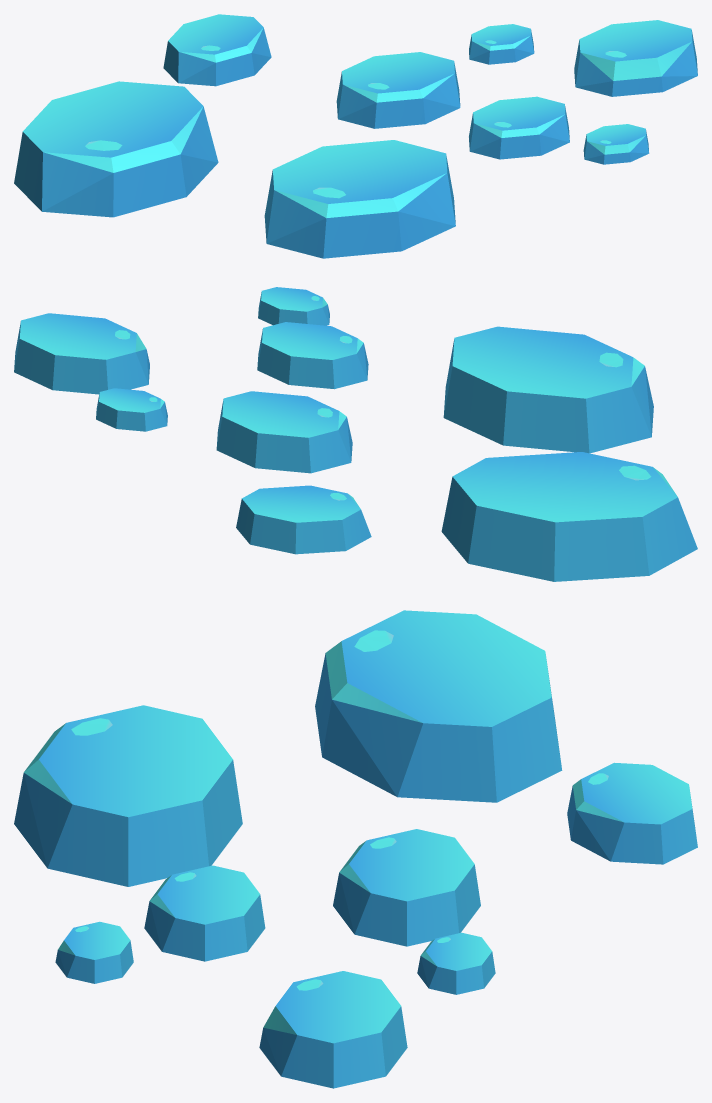
File: waterdrop_001.glb
3 renders of one model, top to bottom at view 1: azimuth 30°, elevation 25°; view 2: azimuth 150°, elevation 25°; view 3: azimuth 270°, elevation 25°, orthographic. The views are drawn at different scales.
Parts seen in each view (by area): view 1: waterdrop.001; view 2: waterdrop.001; view 3: waterdrop.001.
Boxes of the visible parts, <box> form: waterdrop.001: <box>14,14,697,258</box>; waterdrop.001: <box>14,287,697,581</box>; waterdrop.001: <box>14,610,697,1088</box>.
Size of the model in its own units: 0.2878 by 0.023 by 0.1938.
1 material, 1 textured.
